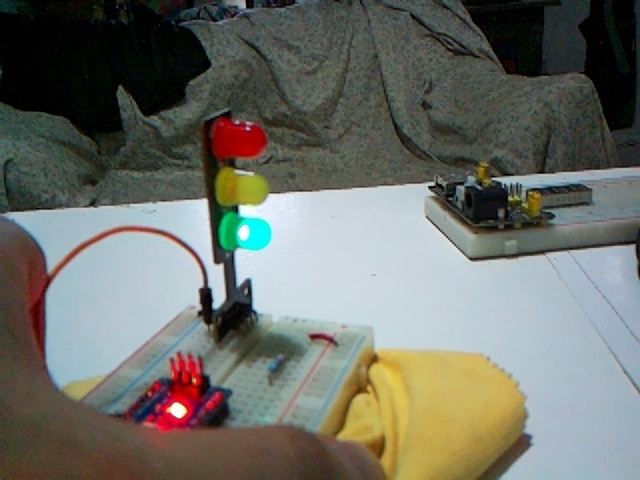traffic_light_green: (201, 109, 271, 336)
